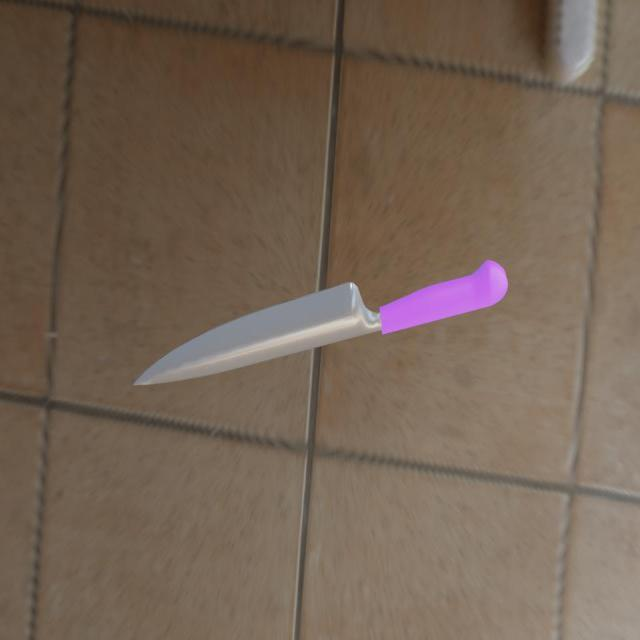knife: (377, 260, 509, 334)
